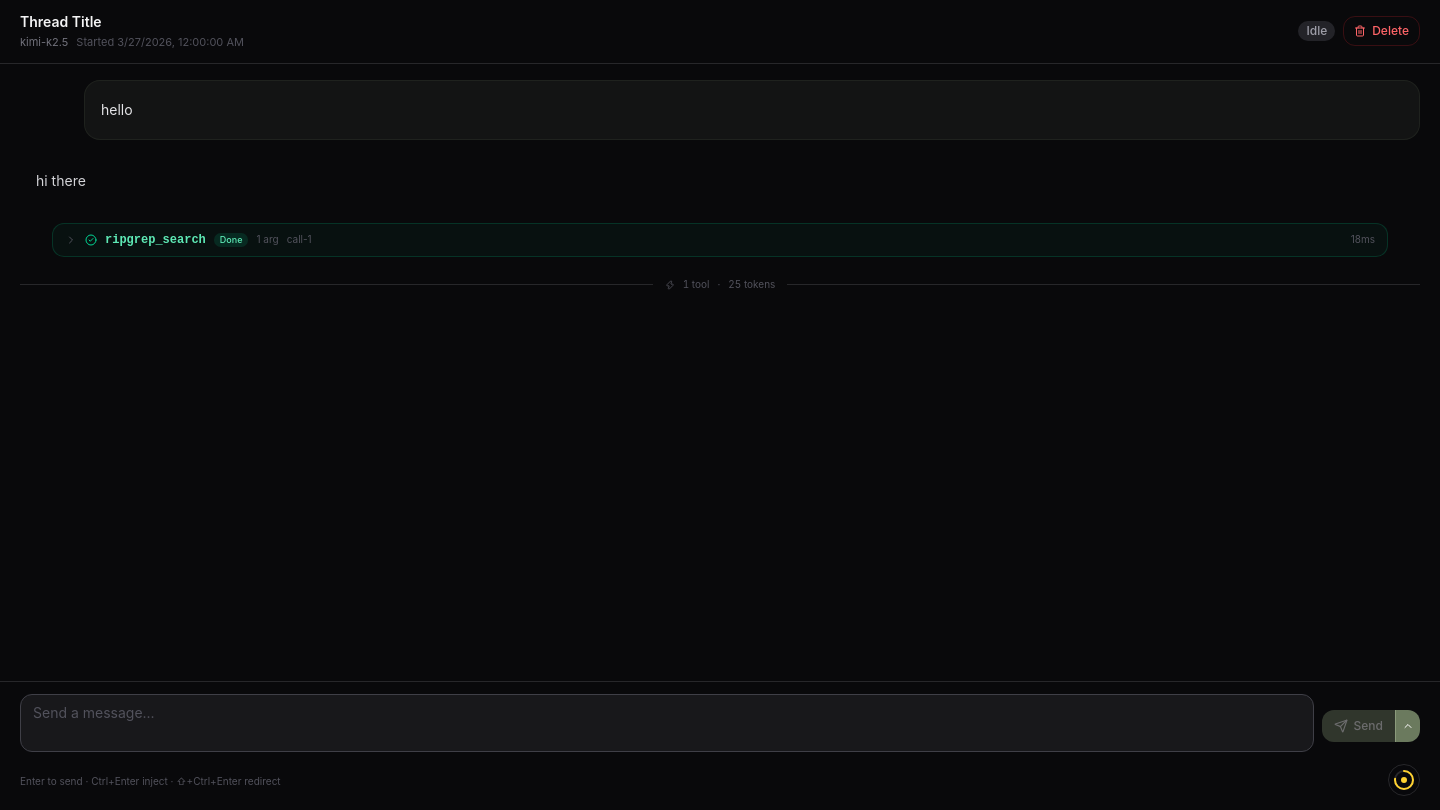
Test: ThreadsTab › renders replay events as the canonical thread transcript without persisted reasoning rows
Expected: the text "hello" is shown, left=101, top=100, right=133, bottom=118
Expected: the text "hi there" is shown, left=36, top=172, right=86, bottom=189
Click the button "ripgrep_search Done 1 arg call-1 18ms" at (155, 240), box left=52, top=223, right=1388, bottom=257
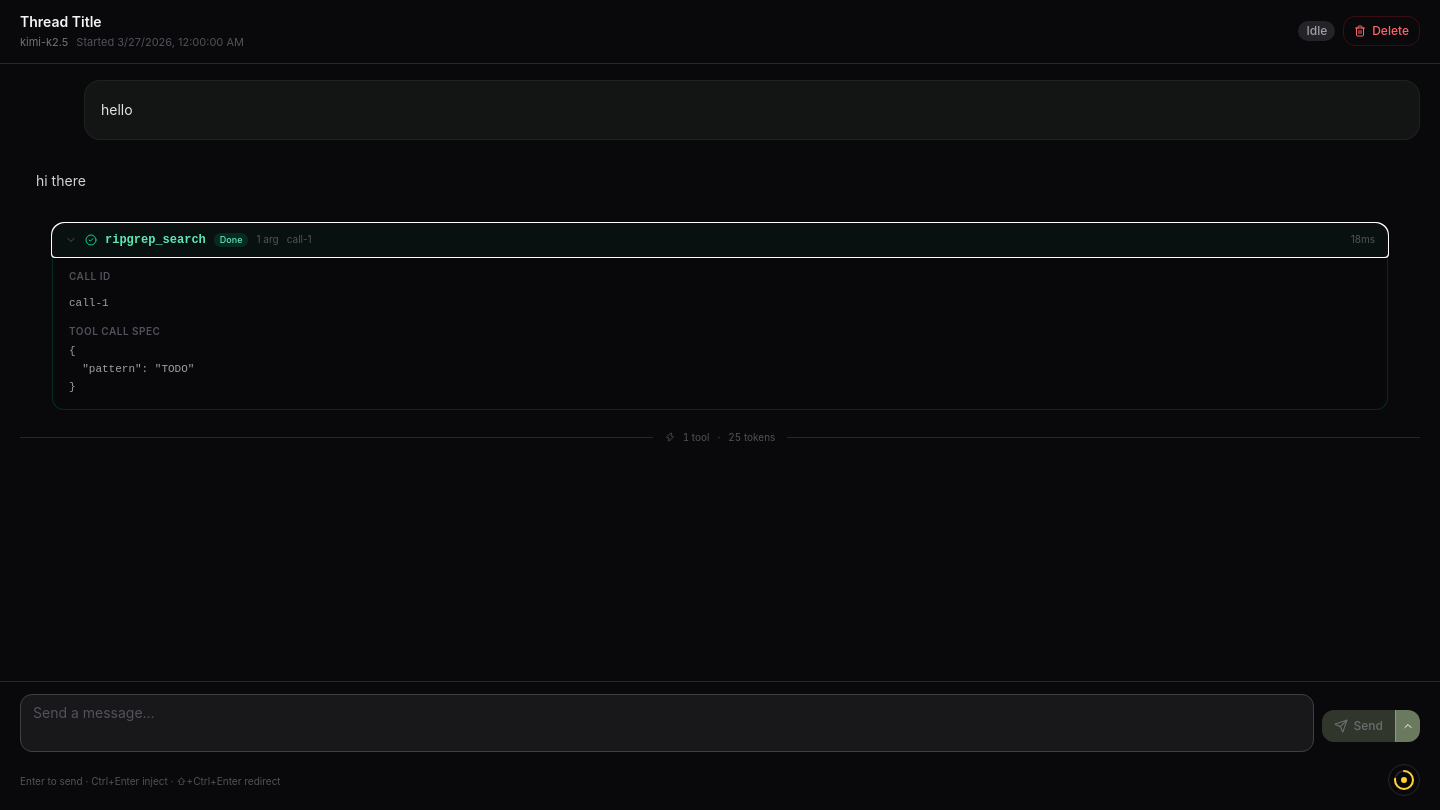
Result: the text "Tool Call Spec" is shown at left=69, top=325, right=160, bottom=337
Result: the text "{ \"pattern\": \"TODO\" }" is shown at left=69, top=345, right=194, bottom=393
